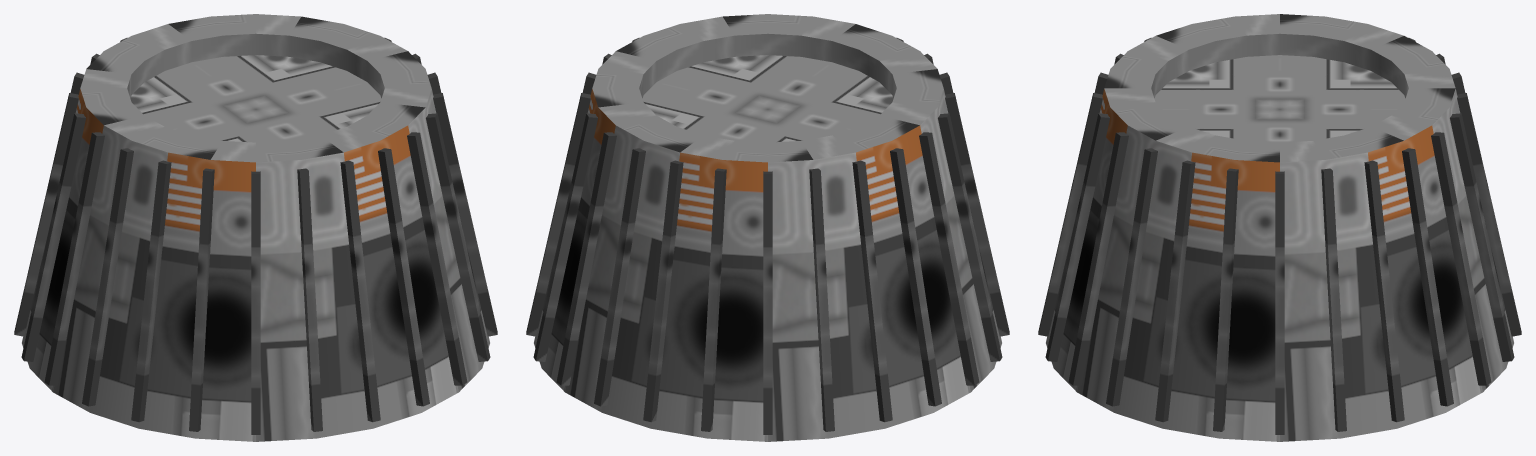
File: libra_fuel_tank_s1_s0p5_2.obj
3 renders of one model, left to right at view 1: azimuth 30°, elevation 25°; view 2: azimuth 150°, elevation 25°; view 3: azimuth 270°, elevation 25°, orthographic.
Parts seen in each view (by area): view 1: libra_fuel_tank_s1_s0p5_2; view 2: libra_fuel_tank_s1_s0p5_2; view 3: libra_fuel_tank_s1_s0p5_2.
Boxes of the visible parts, bbox=[...] form: libra_fuel_tank_s1_s0p5_2: bbox=[14, 14, 497, 441]; libra_fuel_tank_s1_s0p5_2: bbox=[526, 14, 1009, 441]; libra_fuel_tank_s1_s0p5_2: bbox=[1038, 14, 1521, 441].
Bounding box in the file's own units: 1.29 × 0.75 × 1.29.
